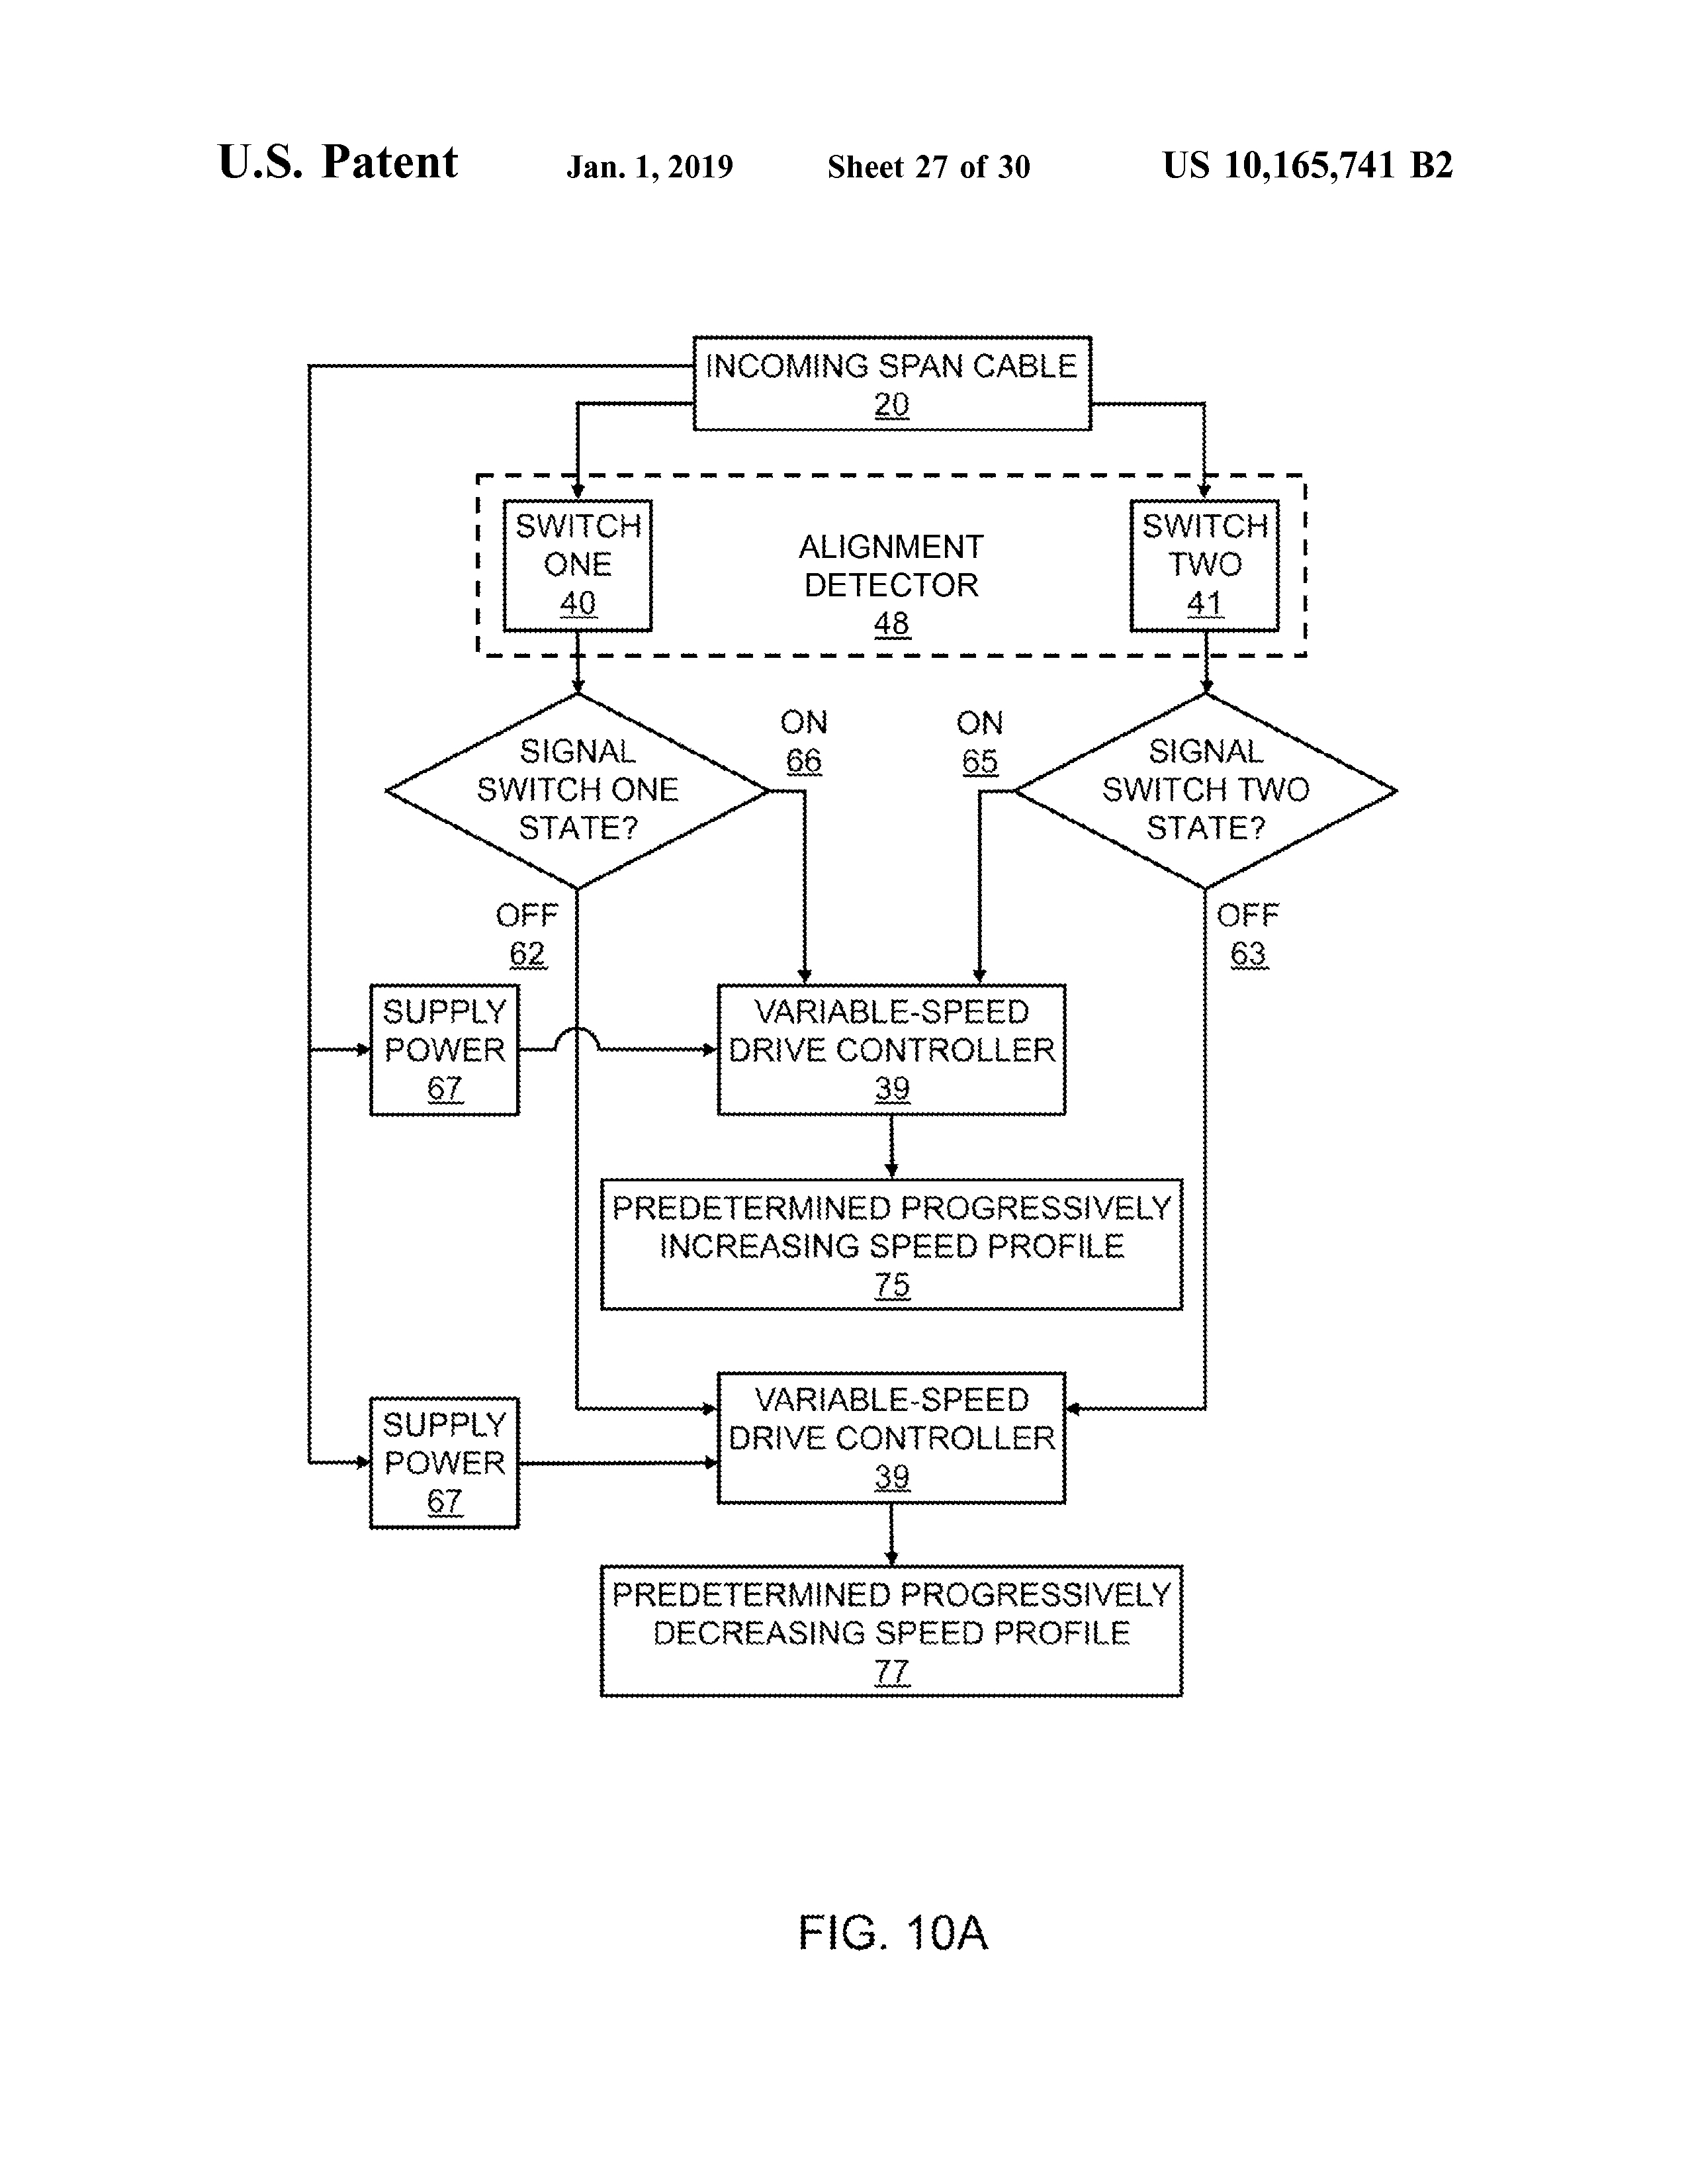patent image: (255, 289, 1419, 1963)
